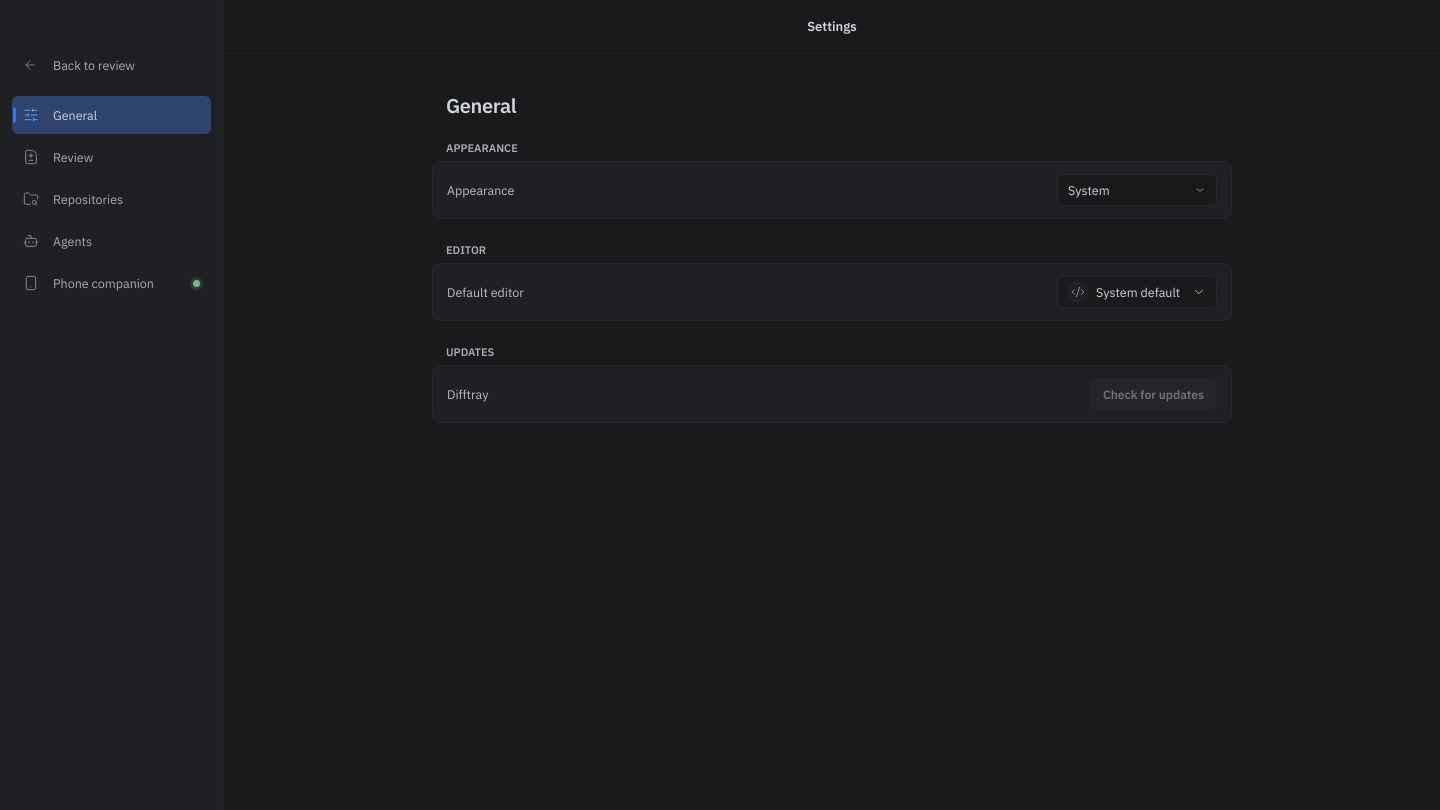
Scenario: SettingsPanel › renders a full-window master-detail workspace and changes settings pages
Expected: the button "General" is shown, [12,96,211,134]
Expected: the heading with id "settings-page-title" reads "General", [446,92,516,119]
Click the button "Review". click: [112, 157]
box: [12,138,211,176]
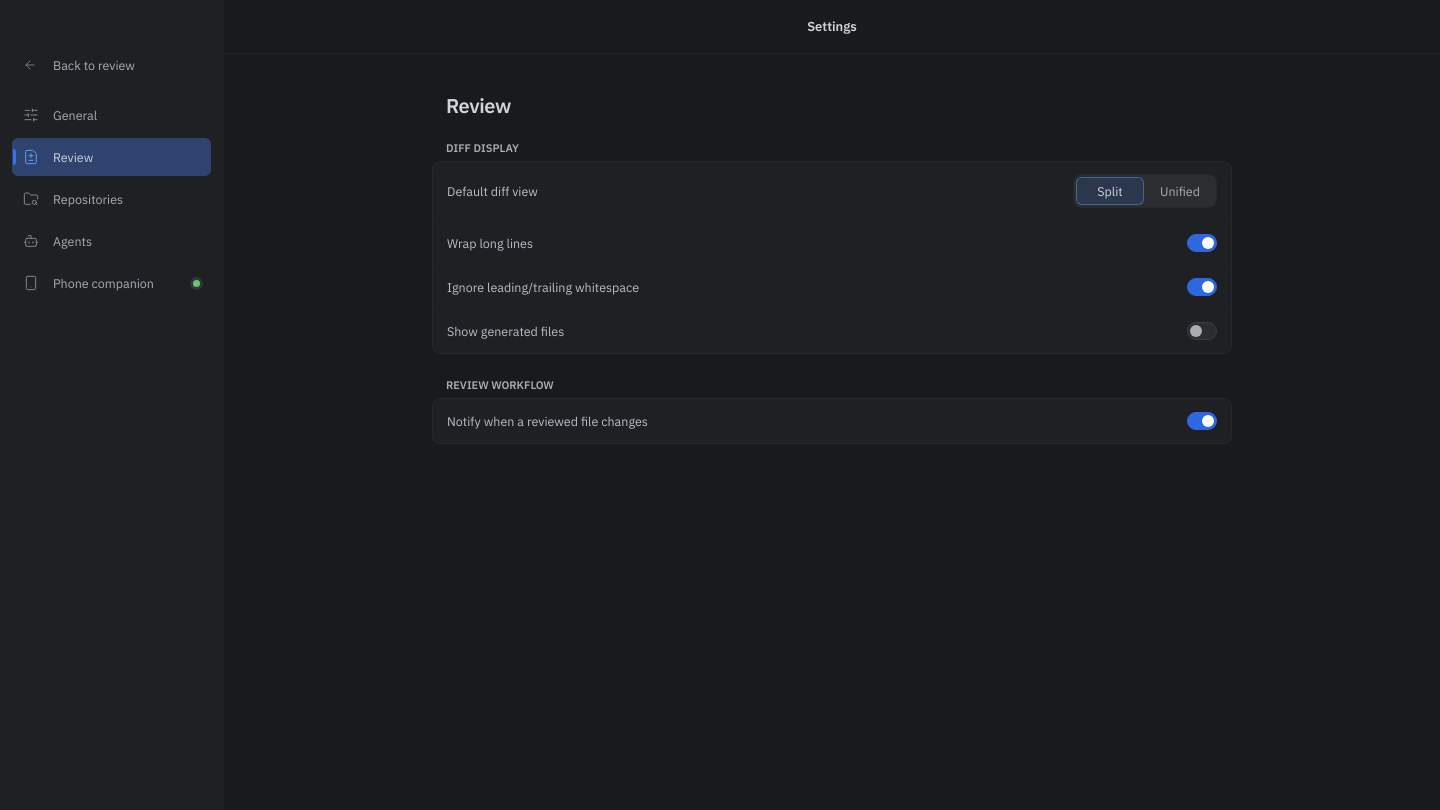
Expected: the heading with id "settings-page-title" reads "Review", [446,92,511,119]
Expected: the element that starts with "Review" shows "Default diff view", [447,183,538,199]
Expected: the text "Appearance" is gone
Click the button "Phone companion". click: [112, 283]
box: [12,264,211,302]
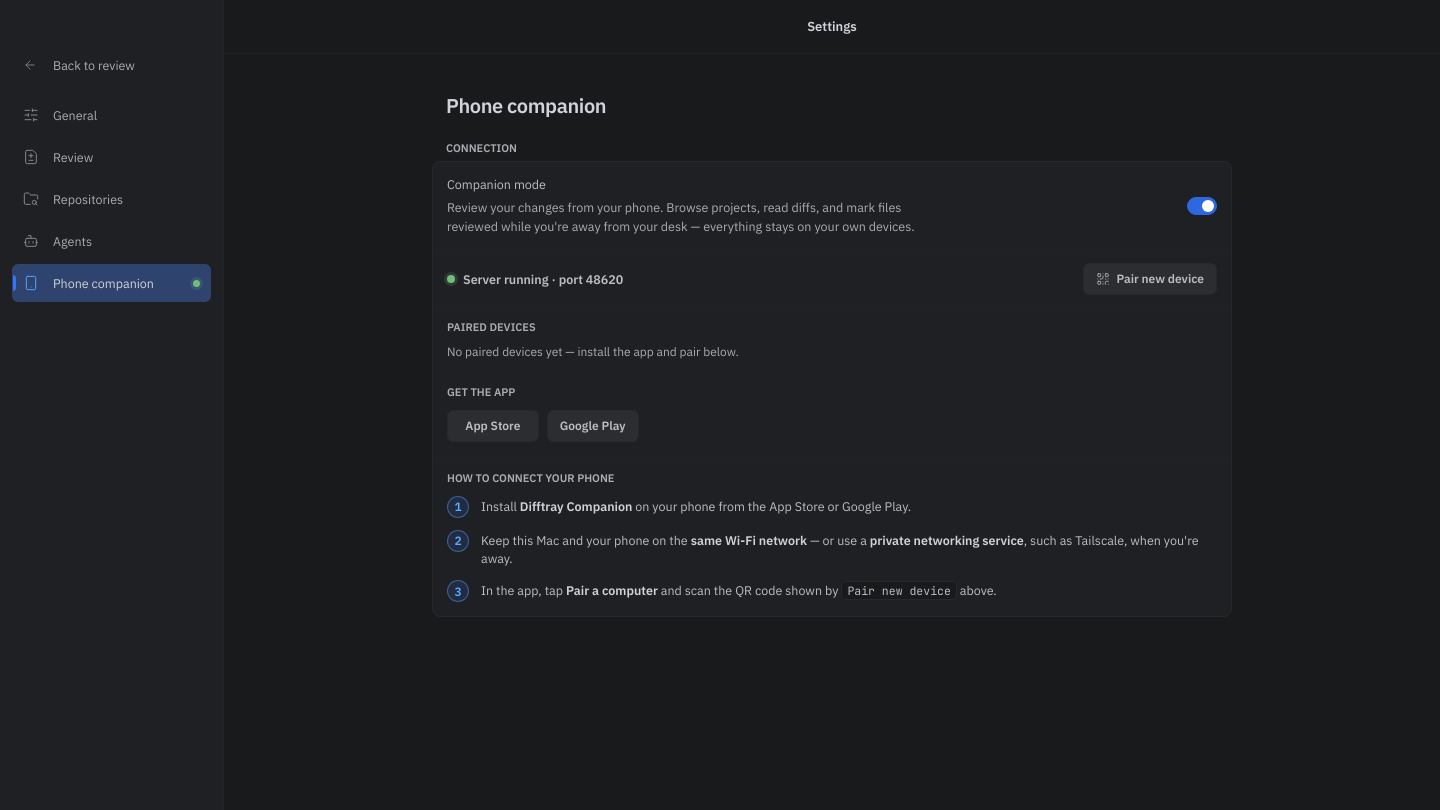
Expected: the heading with id "settings-page-title" reads "Phone companion", [446,92,606,119]
Expected: the element that starts with "Phone companion" shows "Server running", [463,270,623,286]
